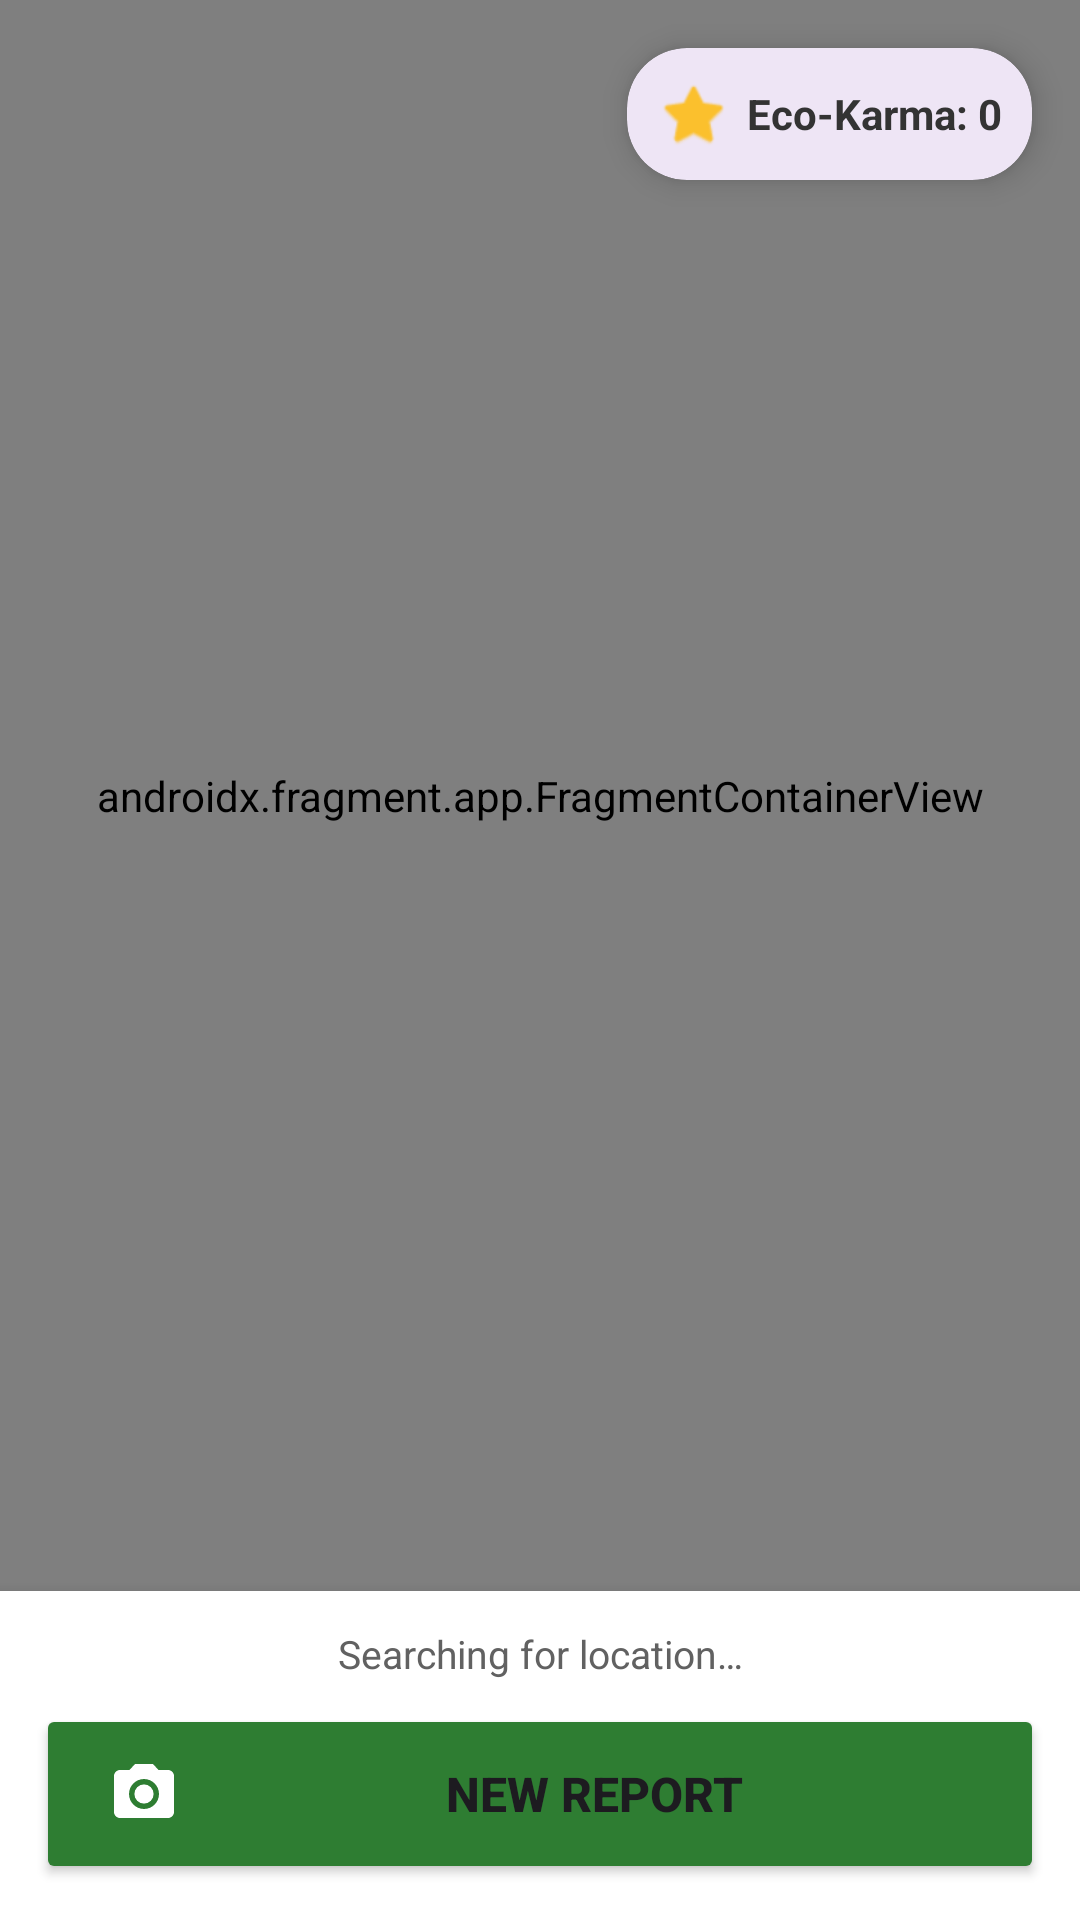

Screen size 1080w x 1920h. Icon name, then its box in pixels as (x1, y1, x2, y2):
Star Icon: (664, 85, 724, 144)
